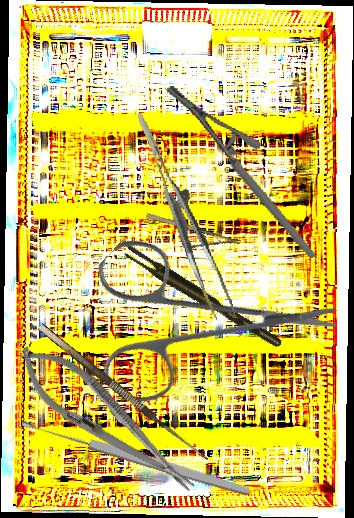Hook Surgical: (37, 313, 217, 465)
Iris Scissors: (43, 169, 345, 470)
Needle Holder: (3, 330, 209, 511), (164, 59, 317, 286), (140, 210, 242, 264)
Surgical Spoon: (20, 415, 251, 499)
Tissue Forceps: (137, 103, 236, 327), (121, 238, 283, 357)
